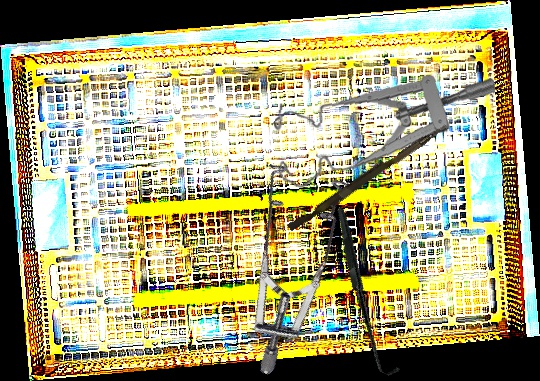Hook Surgical: (281, 206, 453, 380)
Pusher: (287, 117, 448, 236)
Speculum: (161, 134, 405, 378), (268, 58, 497, 205)
